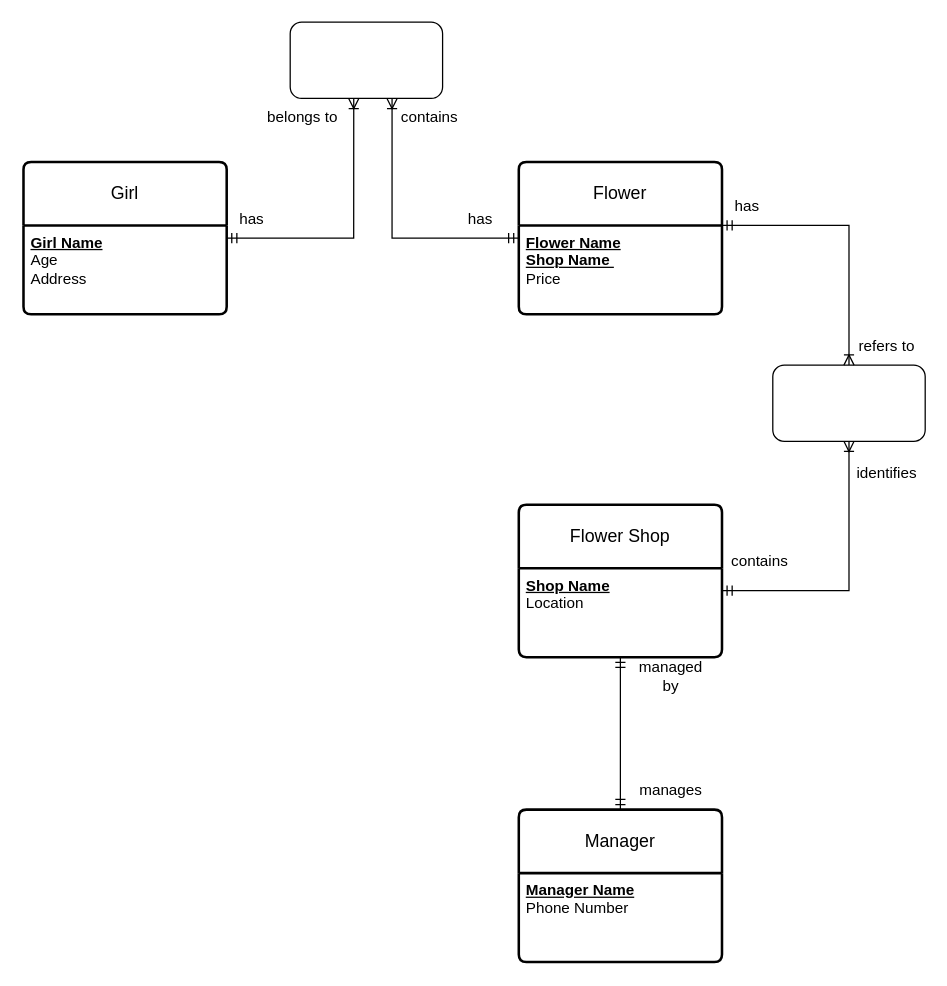
Image size: 947x986. Some labels were removed from this diagram. Here are the shapes that lost their labels. From the top down, the centre of each, then its label:
pixel 366 59: Purchase
pixel 848 402: FlowerShopFlower
